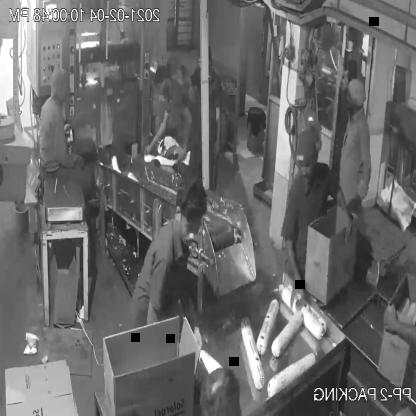glove: (172, 285, 210, 358)
no_glove: (274, 224, 308, 314), (370, 299, 416, 349), (354, 119, 378, 203), (142, 103, 175, 160), (209, 91, 226, 164), (336, 176, 353, 248), (177, 94, 192, 166)
